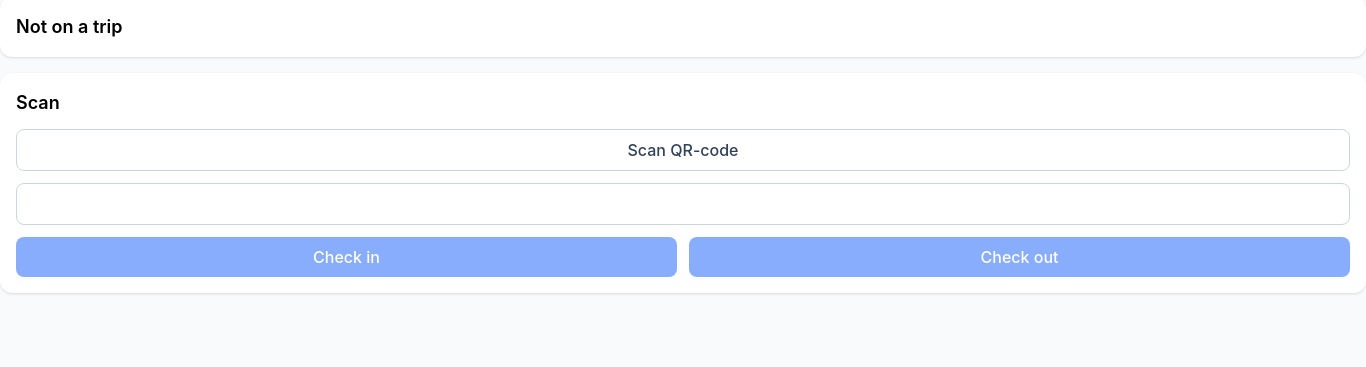
Test case: successfully checks in and loads current trip
Type "zone-code" into the field at [683, 204], box [16, 183, 1350, 225]
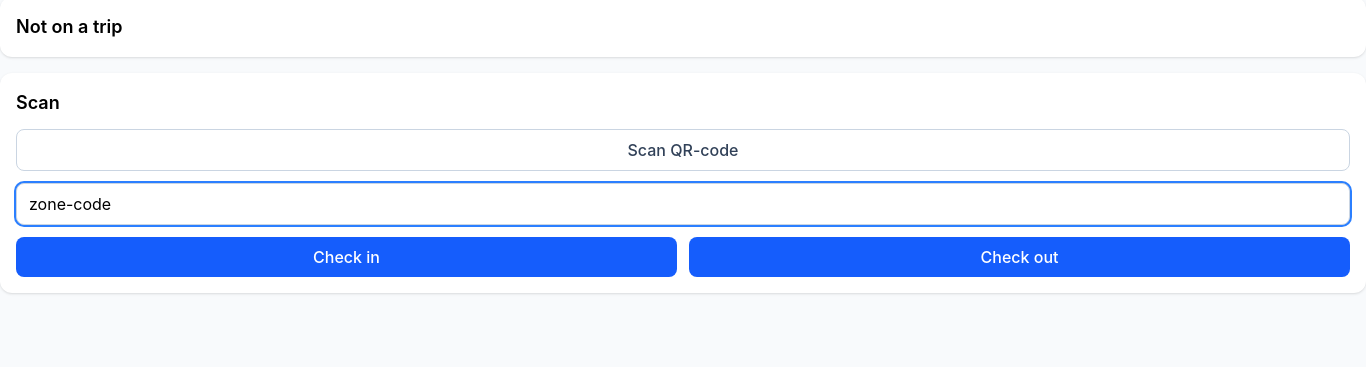
Click the button "Check in" at [346, 257], box [16, 237, 677, 277]
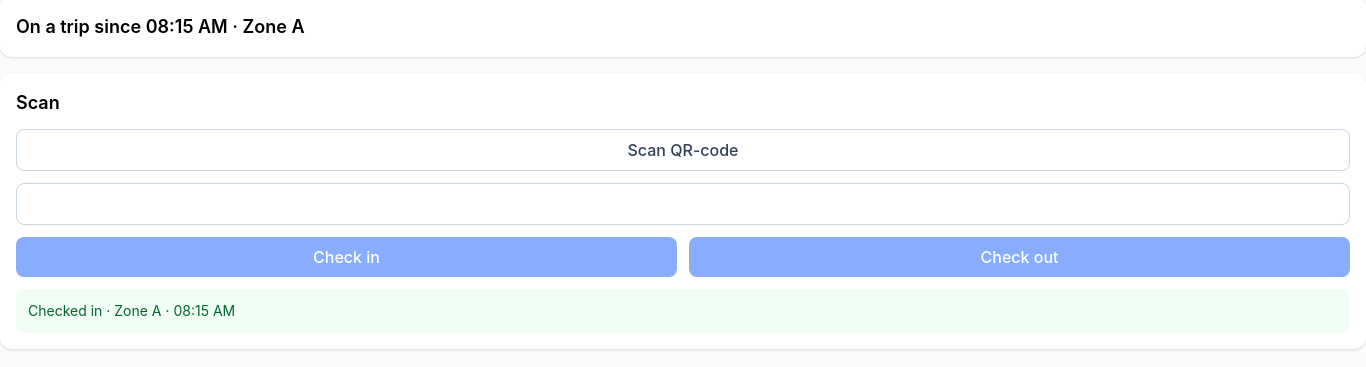
Now the text "Checked in · Zone A · 08:15 AM" is shown, box [16, 289, 1350, 333]
Now the field is empty, box [16, 183, 1350, 225]
Now the heading "On a trip since 08:15 AM · Zone A" is shown, box [16, 16, 304, 37]
